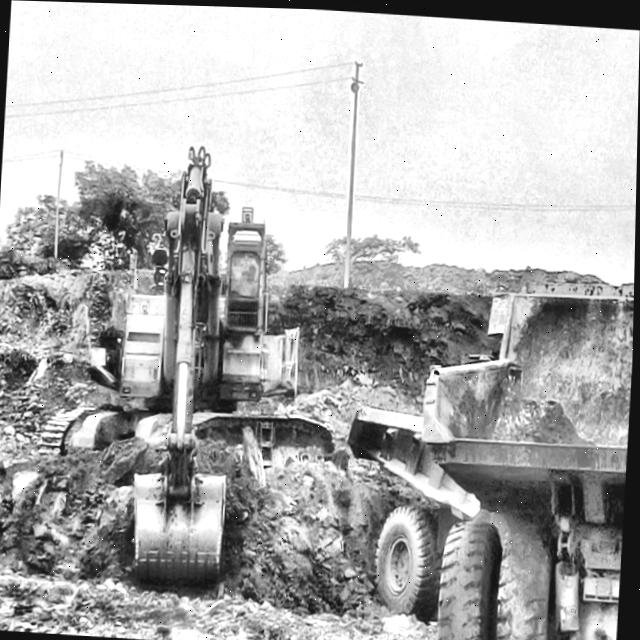dump_truck: (415, 280, 635, 640)
excavator: (47, 146, 301, 596)
